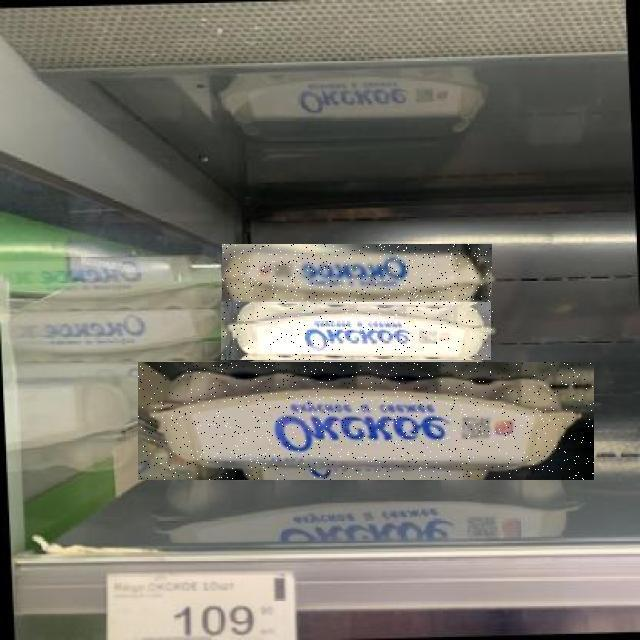Eggs: (138, 362, 594, 480), (223, 244, 493, 313), (222, 302, 494, 360)
